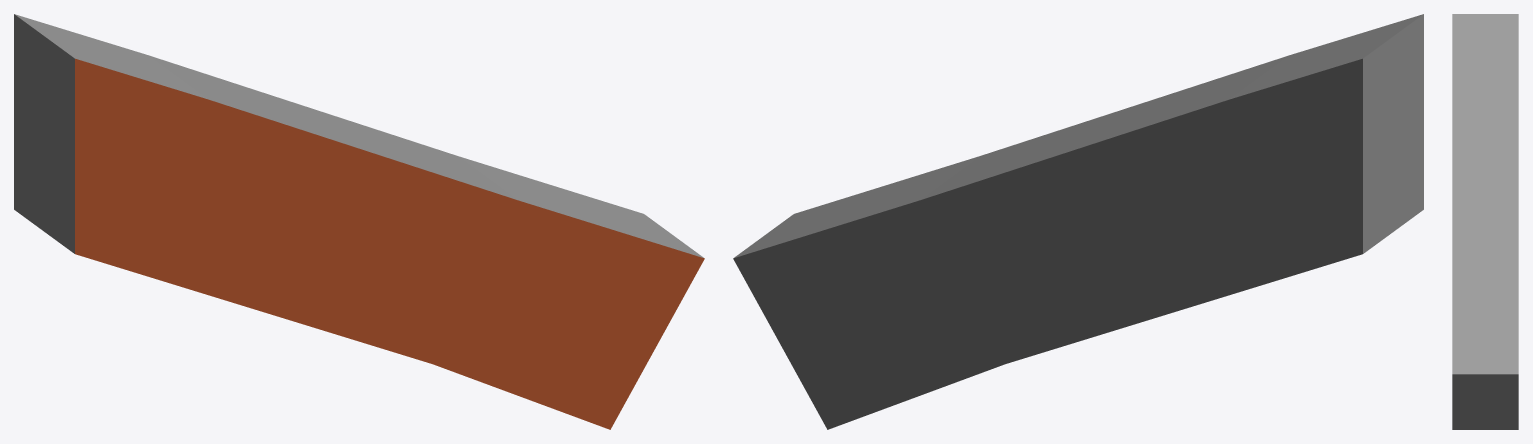
File: construction_1826_assumed_A_Casa_h6m.obj
The picture shows the model from 3 angles, left to right: view 1: azimuth 30°, elevation 25°; view 2: azimuth 150°, elevation 25°; view 3: azimuth 270°, elevation 25°; orthographic projection. The views are drawn at different scales.
Visible parts, largest first — view 1: construction_1826_assumed_A_Casa; view 2: construction_1826_assumed_A_Casa; view 3: construction_1826_assumed_A_Casa.
Boxes of the visible parts, x1,y1,x2,y2 form: construction_1826_assumed_A_Casa: (14,14,704,429); construction_1826_assumed_A_Casa: (733,14,1423,429); construction_1826_assumed_A_Casa: (1452,14,1518,429).
Bounding box in the file's own units: 35.86 × 27.3 × 6.
